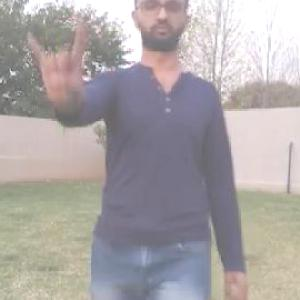takeoff-hand: (22, 24, 94, 102)
